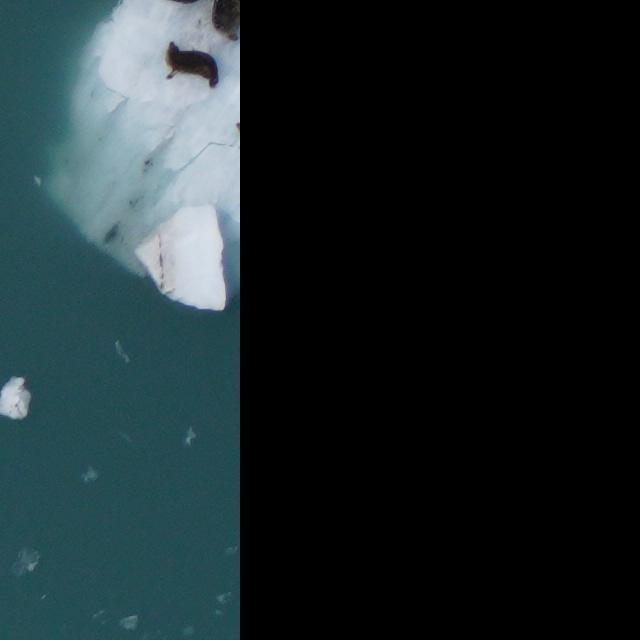seal: (156, 39, 227, 96), (212, 0, 239, 40)
